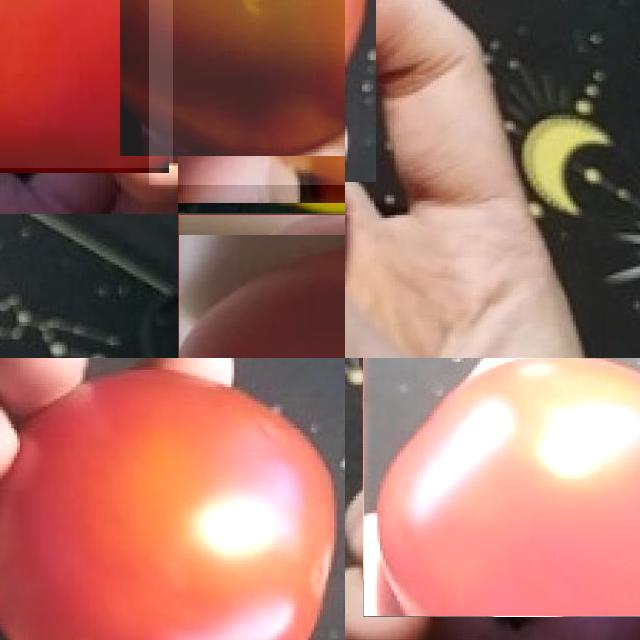Fresh Tomato: (0, 358, 345, 640), (363, 358, 640, 616), (0, 0, 173, 168), (178, 214, 345, 358)
Rotten Tomato: (149, 0, 345, 185)
